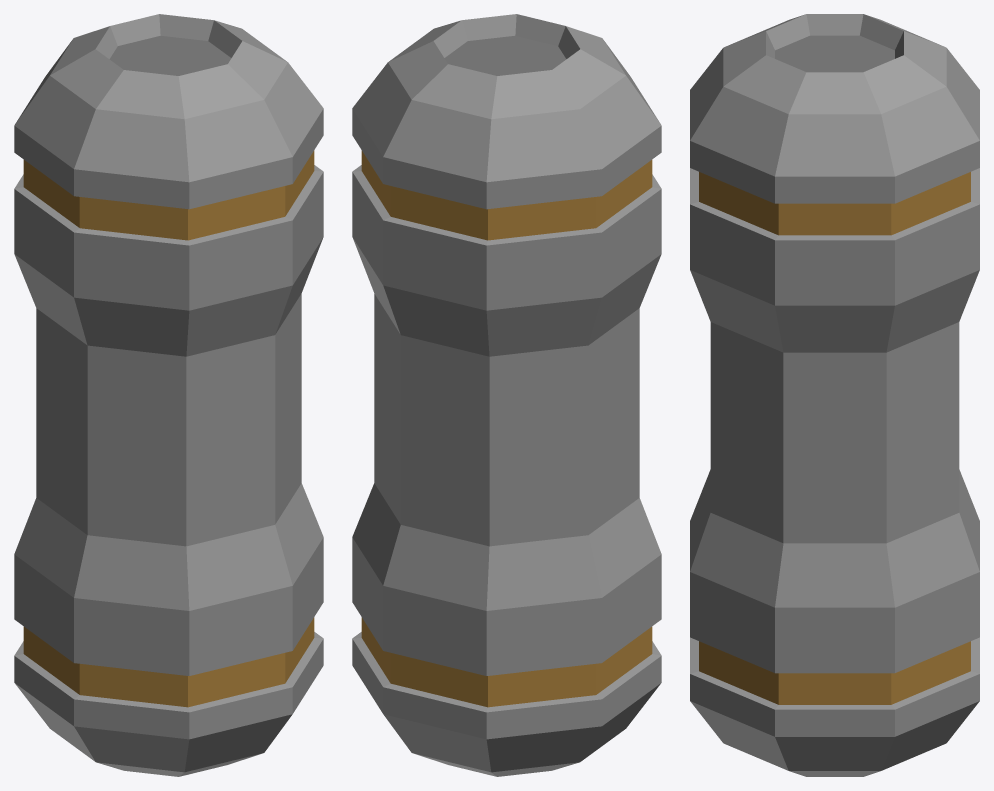
File: Props_Vessel.glb
The picture shows the model from 3 angles, left to right: view 1: azimuth 30°, elevation 25°; view 2: azimuth 150°, elevation 25°; view 3: azimuth 270°, elevation 25°; orthographic projection.
Visible parts, largest first — view 1: Props_Vessel; view 2: Props_Vessel; view 3: Props_Vessel.
Part boxes in pixels (bbox=[...]): Props_Vessel: bbox=[14, 14, 323, 776]; Props_Vessel: bbox=[352, 14, 661, 776]; Props_Vessel: bbox=[690, 14, 979, 776].
Size of the model in its own units: 0.2873 by 0.7705 by 0.2873.
